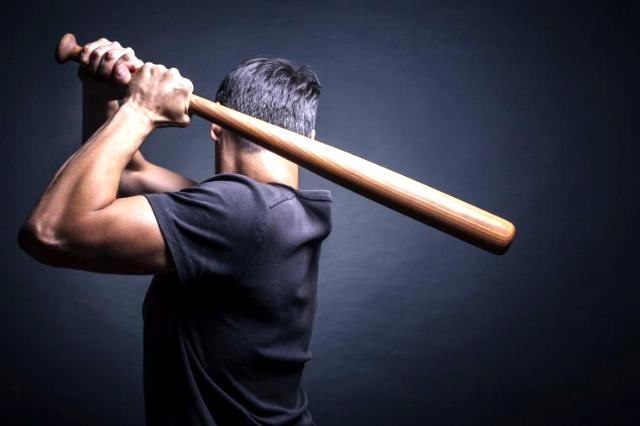baseball bat: (53, 33, 514, 254)
